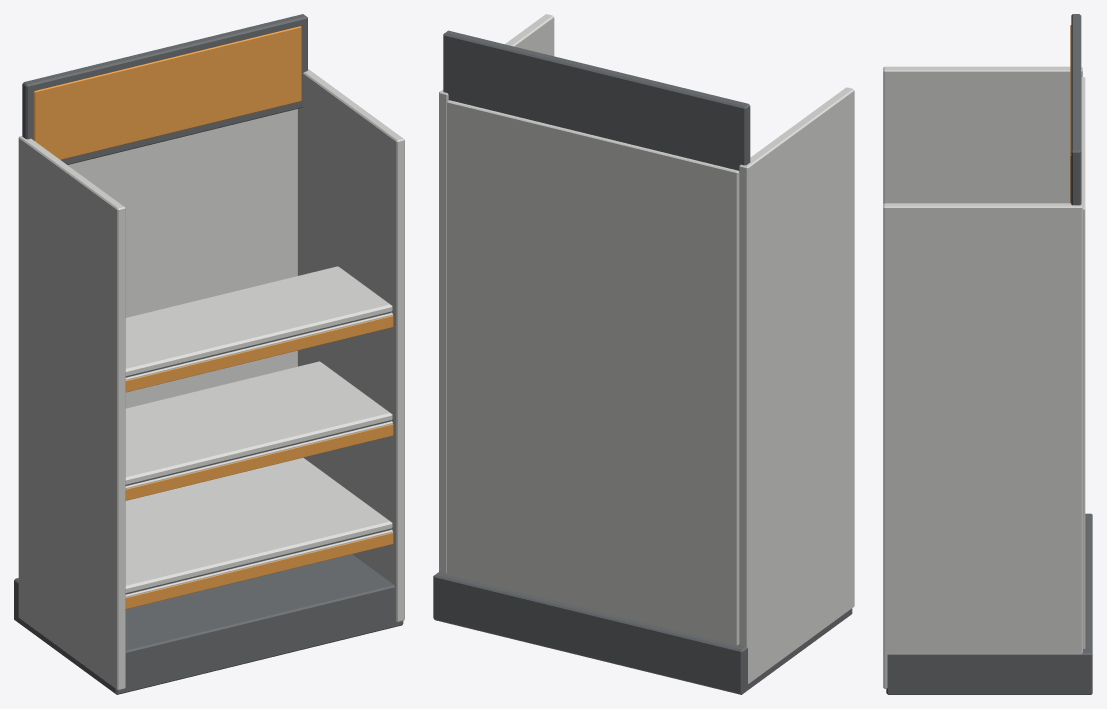
3 views of the same model, side by side, from view 1: azimuth 30°, elevation 25°; view 2: azimuth 150°, elevation 25°; view 3: azimuth 270°, elevation 25° (orthographic). The views are drawn at different scales.
Visible parts, largest first — view 1: endcap-bay; view 2: endcap-bay; view 3: endcap-bay.
Part boxes in pixels (x1=…): endcap-bay: x1=14, y1=14, x2=404, y2=694; endcap-bay: x1=433, y1=14, x2=854, y2=694; endcap-bay: x1=883, y1=14, x2=1092, y2=694.
Size of the model in its own units: 1 by 1.8 by 0.6299.
